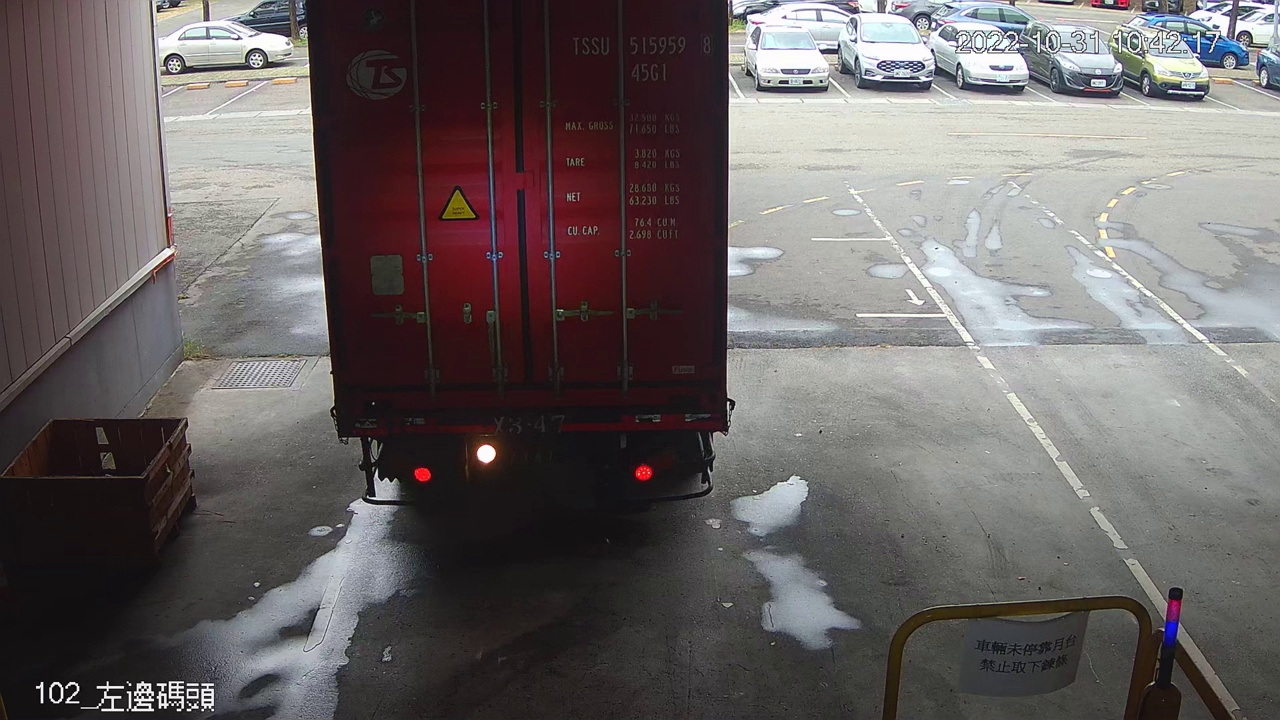container: (567, 28, 718, 87)
